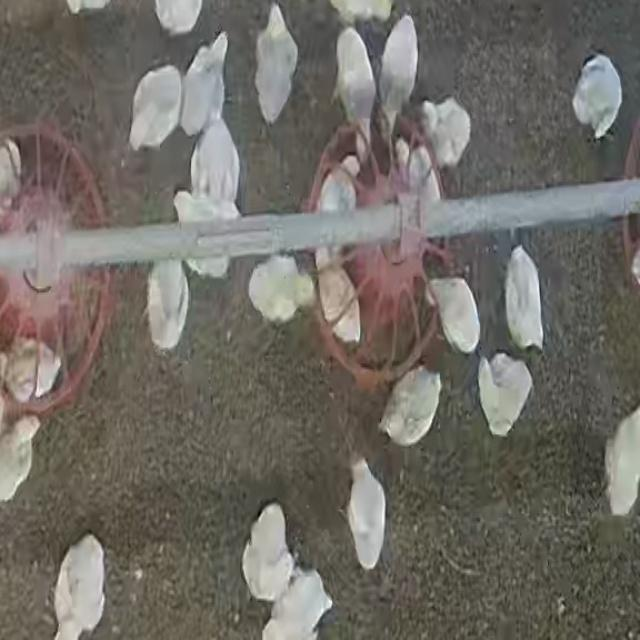chicken: (52, 534, 108, 637), (172, 192, 238, 275), (378, 364, 441, 448), (254, 3, 297, 125), (180, 31, 228, 140), (376, 11, 418, 134), (334, 25, 377, 145), (241, 503, 293, 601), (344, 456, 388, 570), (261, 568, 332, 638), (477, 352, 534, 438), (128, 65, 184, 151), (571, 53, 627, 137), (603, 397, 640, 517), (428, 275, 482, 356), (247, 257, 310, 326), (504, 246, 544, 351), (313, 248, 359, 338), (190, 116, 238, 200), (145, 262, 189, 353), (420, 98, 472, 170), (0, 416, 40, 507), (3, 341, 58, 403), (390, 139, 440, 206), (318, 155, 365, 225), (153, 0, 204, 37)
